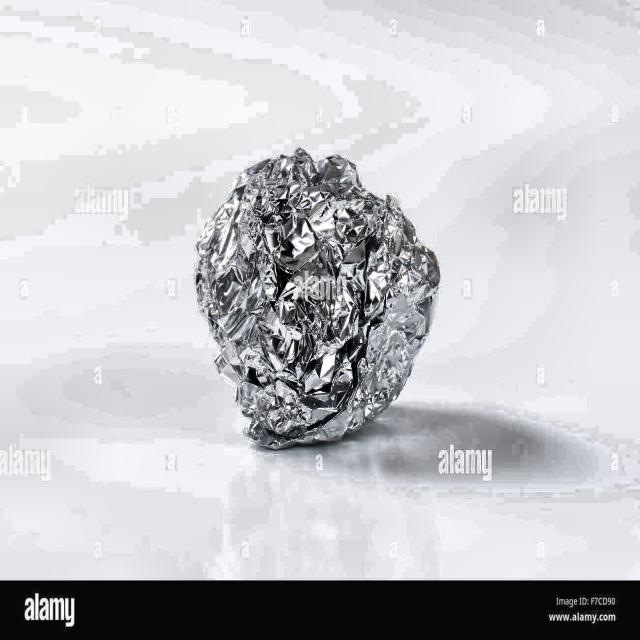Foil: (168, 125, 448, 459)
